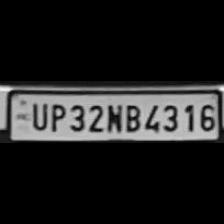1: (180, 101, 196, 131)
2: (86, 102, 104, 132)
3: (66, 102, 86, 132), (160, 102, 178, 132)
4: (142, 102, 162, 132)
6: (196, 100, 216, 132)
B: (122, 102, 140, 132)
N: (104, 102, 122, 132)
P: (46, 102, 66, 132)
U: (28, 100, 46, 130)
